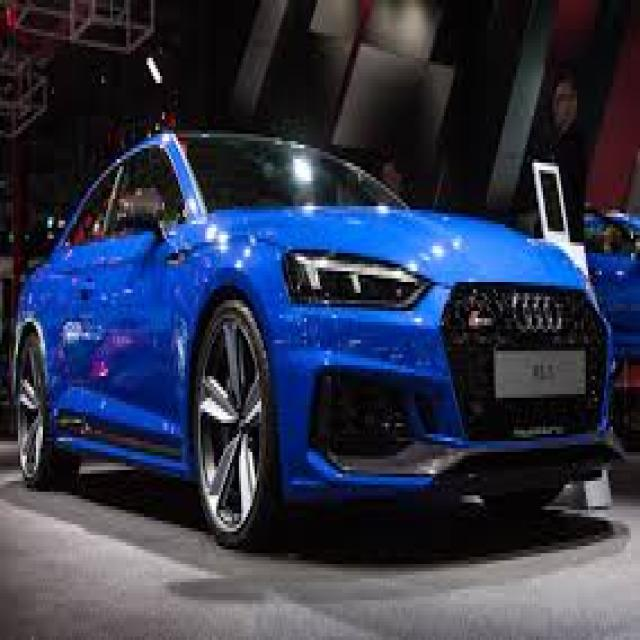SUV: (5, 122, 621, 550)
